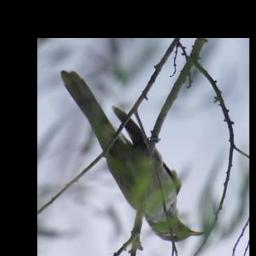Cuckoo: (53, 68, 204, 244)
